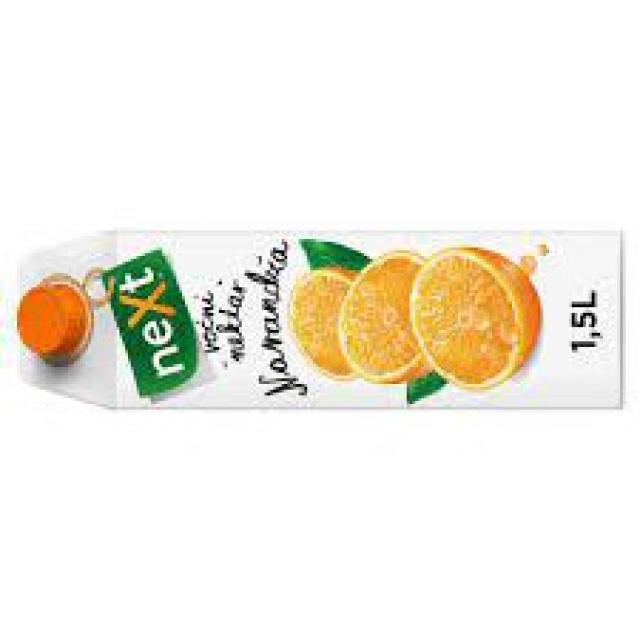non_white_jug: (11, 225, 624, 412)
